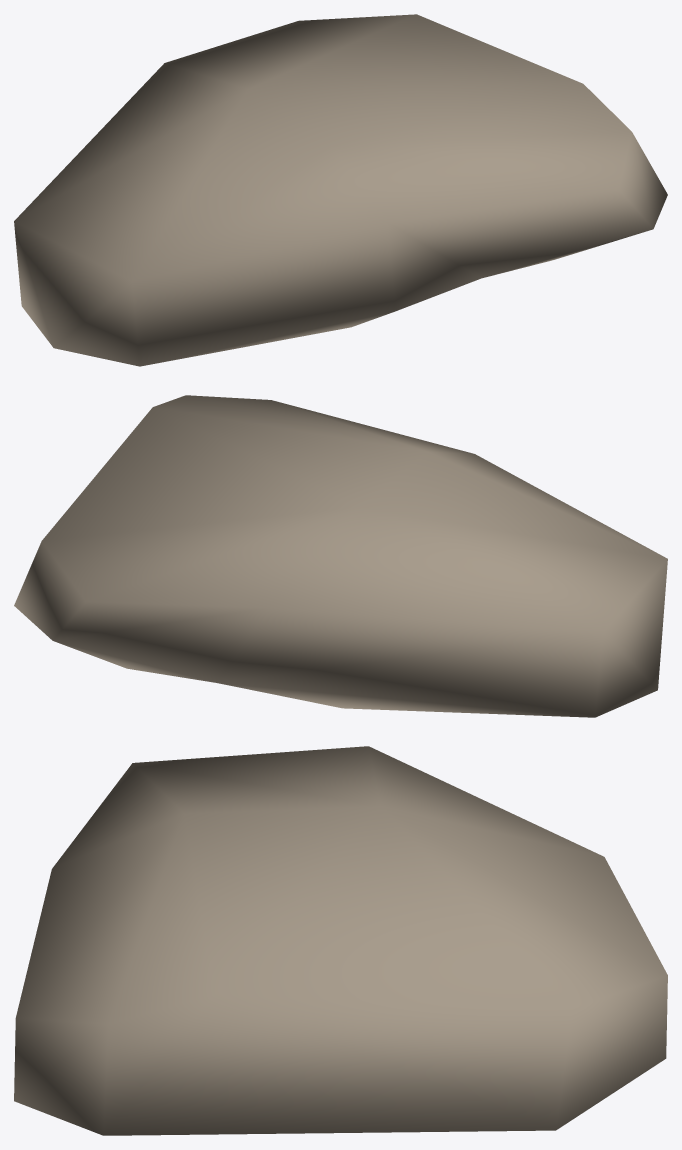
File: hand_r.dae
3 views of the same model, one above another, from view 1: azimuth 30°, elevation 25°; view 2: azimuth 150°, elevation 25°; view 3: azimuth 270°, elevation 25° (orthographic). The views are drawn at different scales.
Visible parts, largest first — view 1: Mesh_016; view 2: Mesh_016; view 3: Mesh_016.
Part boxes in pixels (x1,y1,x2,y2): Mesh_016: (14, 14, 667, 366); Mesh_016: (14, 395, 667, 717); Mesh_016: (14, 746, 667, 1135).
Bounding box in the file's own units: 2.36 × 1.85 × 0.7579.
